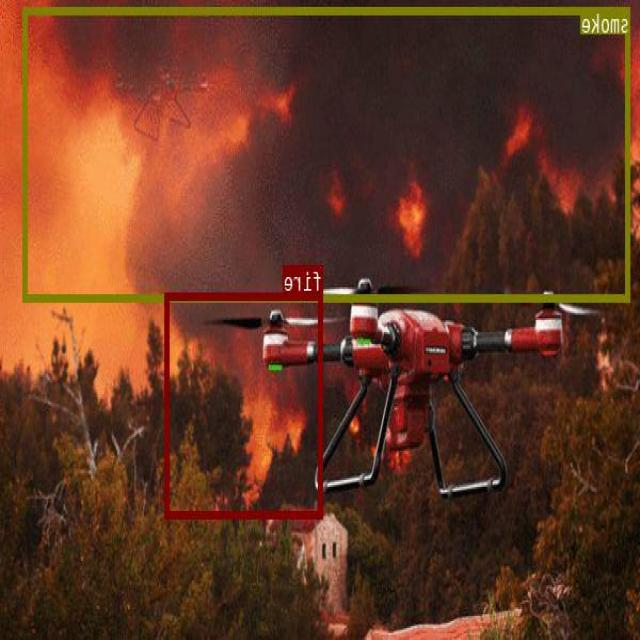fire: (166, 291, 324, 517)
smoke: (24, 6, 631, 300)
